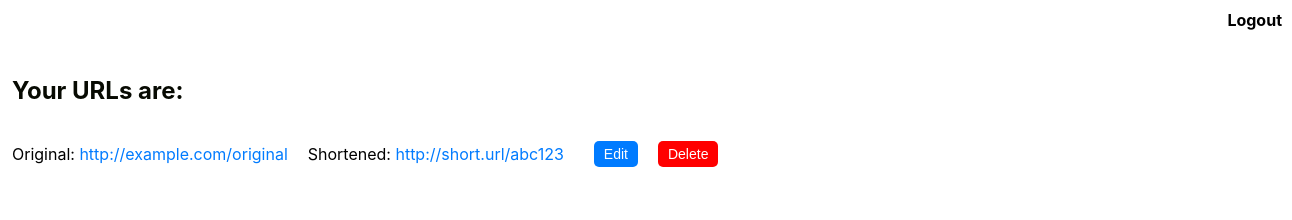
Scenario: test page for MyUrlsPage component › testing failure of deleting of url
The image size is (1292, 220).
Expected: the link "http://example.com/original" is shown, [79,144,288,164]
Expected: the link "http://short.url/abc123" is shown, [395,144,564,164]
Click the button "Delete" at (688, 154), box [658,141,718,167]
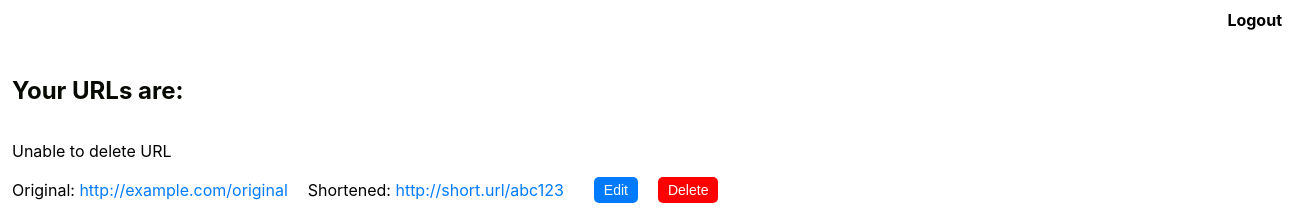
Result: the text "Unable to delete URL" is shown at [12,141,172,161]
